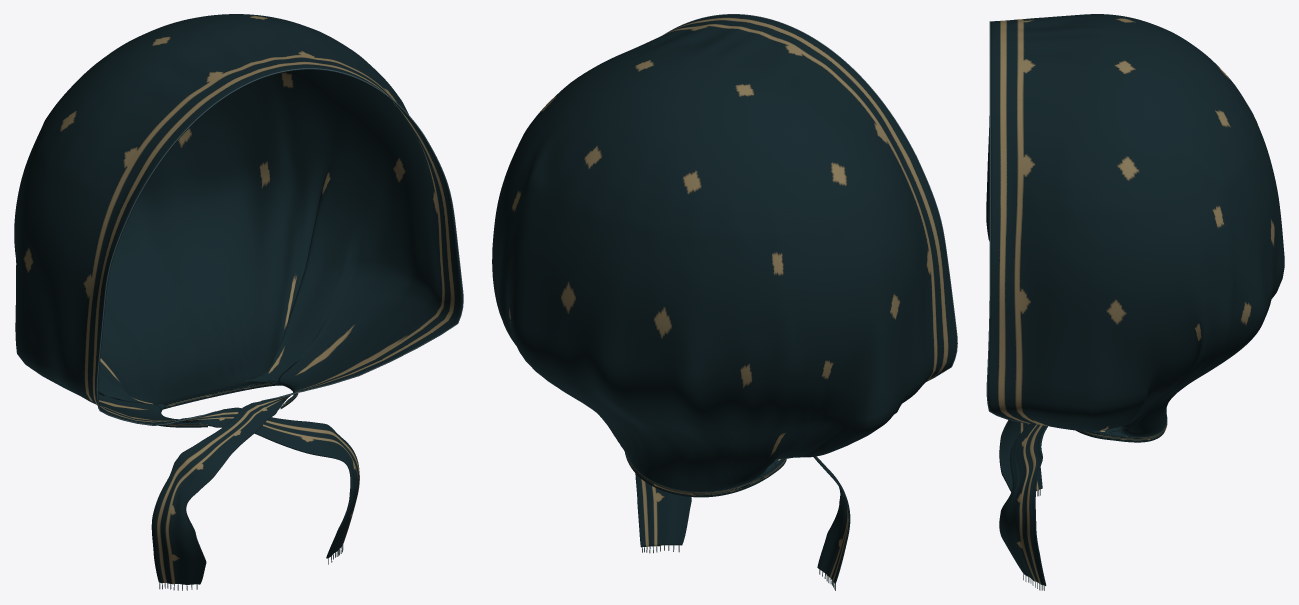
Rendered from Feminine-sweatshirt-compact-pashmina248-headgear.glb.
3 views of the same model, side by side, from view 1: azimuth 30°, elevation 25°; view 2: azimuth 150°, elevation 25°; view 3: azimuth 270°, elevation 25° (orthographic). The views are drawn at different scales.
Parts seen in each view (by area): view 1: 226 headgear / Headwear / continuous woven pashmina239, 226 headgear / Headwear / face edge239; view 2: 226 headgear / Headwear / continuous woven pashmina239, 226 headgear / Headwear / face edge239; view 3: 226 headgear / Headwear / continuous woven pashmina239, 226 headgear / Headwear / face edge239.
Part boxes in pixels (left/top/right/bottom): 226 headgear / Headwear / continuous woven pashmina239: left=14, top=14, right=462, bottom=584; 226 headgear / Headwear / face edge239: left=96, top=68, right=463, bottom=425; 226 headgear / Headwear / continuous woven pashmina239: left=492, top=14, right=956, bottom=584; 226 headgear / Headwear / face edge239: left=664, top=14, right=957, bottom=381; 226 headgear / Headwear / continuous woven pashmina239: left=986, top=14, right=1284, bottom=585; 226 headgear / Headwear / face edge239: left=986, top=21, right=1029, bottom=423.
Size of the model in its own units: 1.02 by 1.35 by 0.7112.
3 materials, 1 textured.
